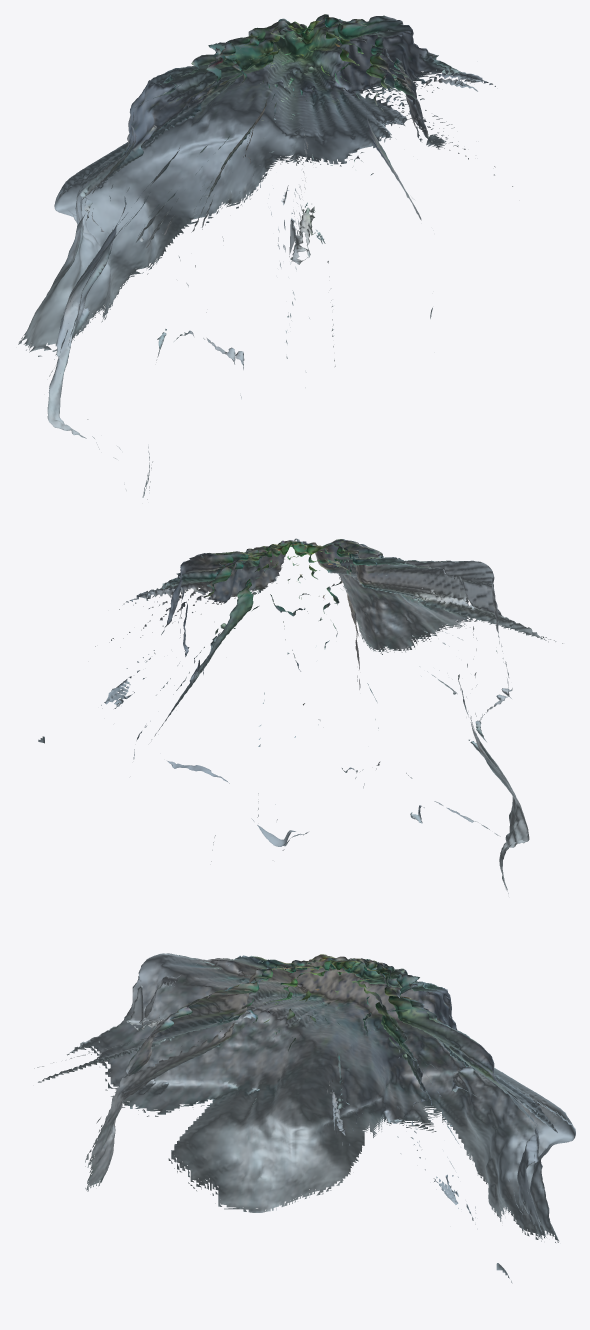
Rendered from canyon-waterfall-collider.glb.
3 views of the same model, one above another, from view 1: azimuth 30°, elevation 25°; view 2: azimuth 150°, elevation 25°; view 3: azimuth 270°, elevation 25° (orthographic). The views are drawn at different scales.
Parts seen in each view (by area): view 1: world; view 2: world; view 3: world.
Part boxes in pixels (x1,y1,x2,y2): world: [18, 14, 512, 499]; world: [38, 538, 562, 893]; world: [34, 953, 575, 1283].
Size of the model in its own units: 19.93 by 13.46 by 19.92.
